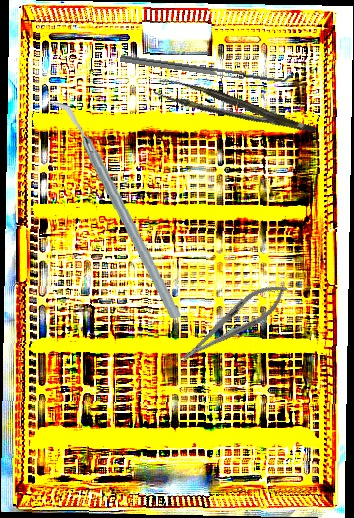Chopper: (49, 92, 182, 326)
Needle Holder: (171, 273, 295, 373)
Spatula Surgical: (119, 47, 295, 87)
Tissue Forceps: (152, 68, 317, 153)
